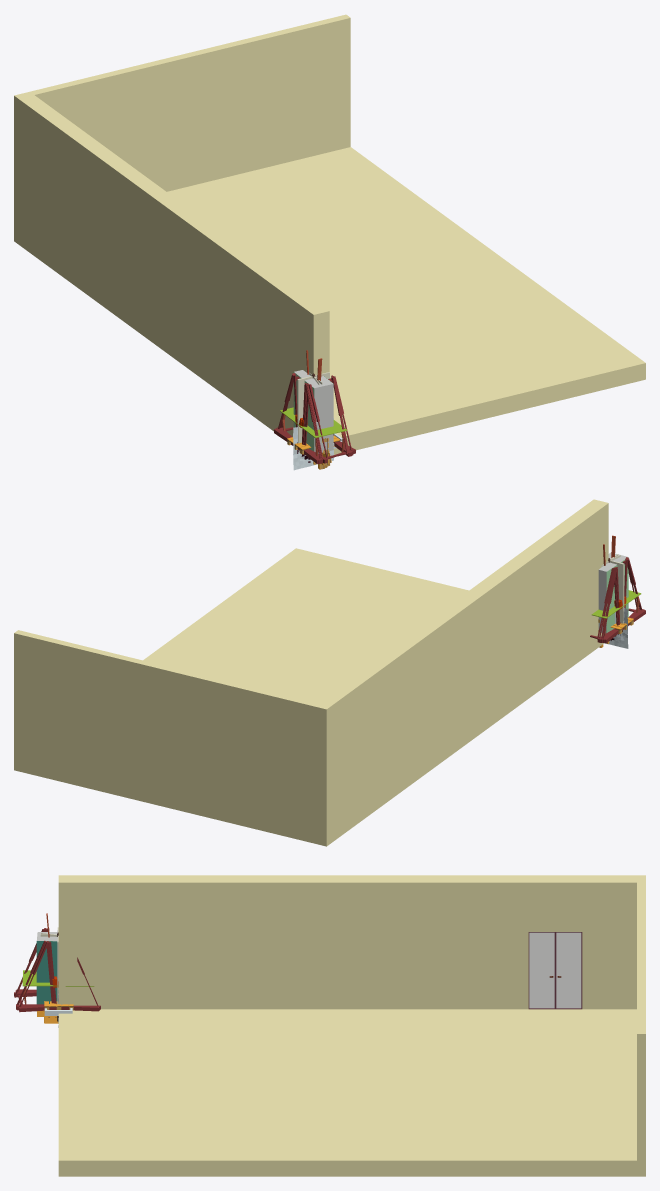
Rendered from room.fbx.
3 renders of one model, top to bottom at view 1: azimuth 30°, elevation 25°; view 2: azimuth 150°, elevation 25°; view 3: azimuth 270°, elevation 25°, orthographic. The views are drawn at different scales.
Visible parts, largest first — view 1: Room.001, Closet.002, Easel.015, Easel.016; view 2: Room.001, Closet.002; view 3: Room.001, Closet.002, Easel.016, Easel.013.
Part boxes in pixels (x1,y1,x2,y2): Room.001: (14, 14, 645, 454); Closet.002: (293, 370, 333, 453); Easel.015: (297, 359, 351, 463); Easel.016: (302, 358, 355, 463); Room.001: (14, 499, 608, 846); Closet.002: (598, 552, 628, 633); Room.001: (58, 875, 645, 1176); Closet.002: (36, 932, 57, 1004); Easel.016: (14, 914, 58, 1012); Easel.013: (15, 913, 55, 1010).
Bounding box in the file's own units: 11.15 × 4.54 × 17.66.
